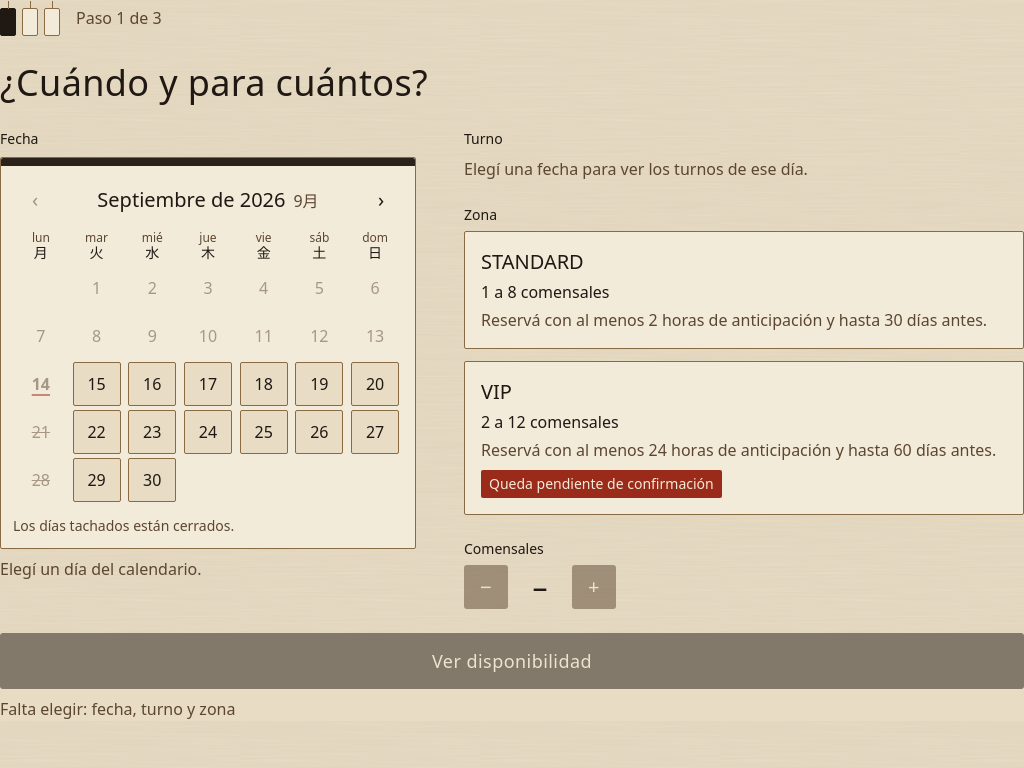
FormularioSeleccion - campos y obligatoriedad › con los cuatro campos completos habilita el botón y quita el texto
Step 1. Click the button "19" → (319,384), box [295, 362, 343, 406]
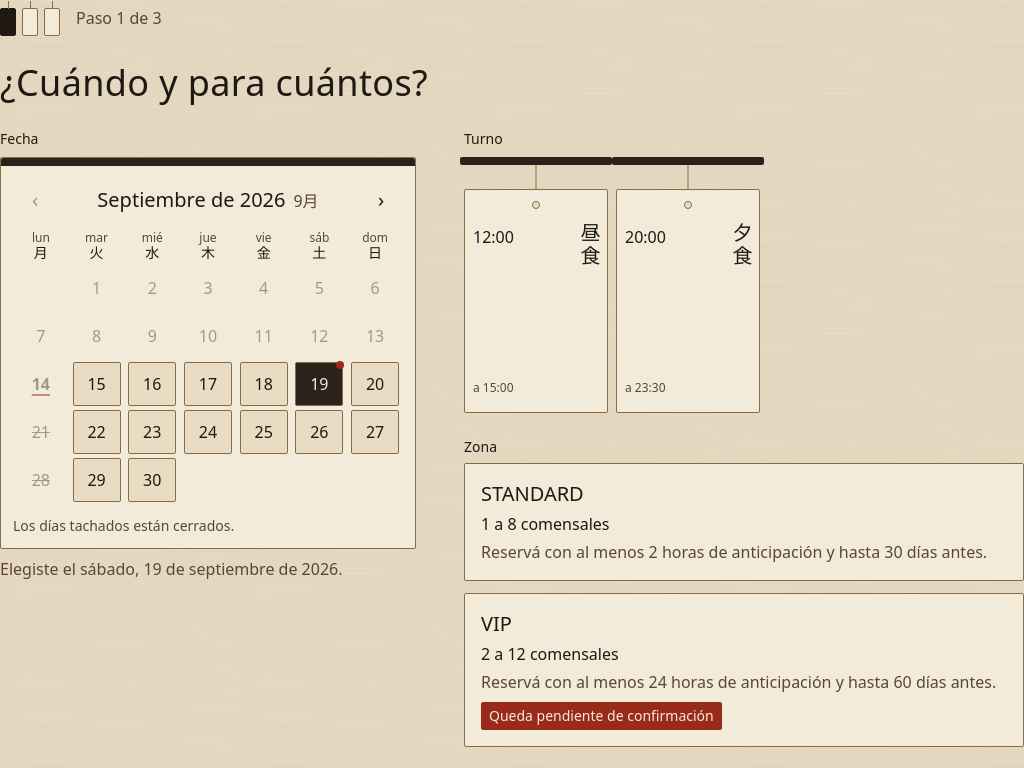
Step 2. Click the button with aria-label "20:00 a 23:30" → (688,301), box [616, 189, 760, 413]
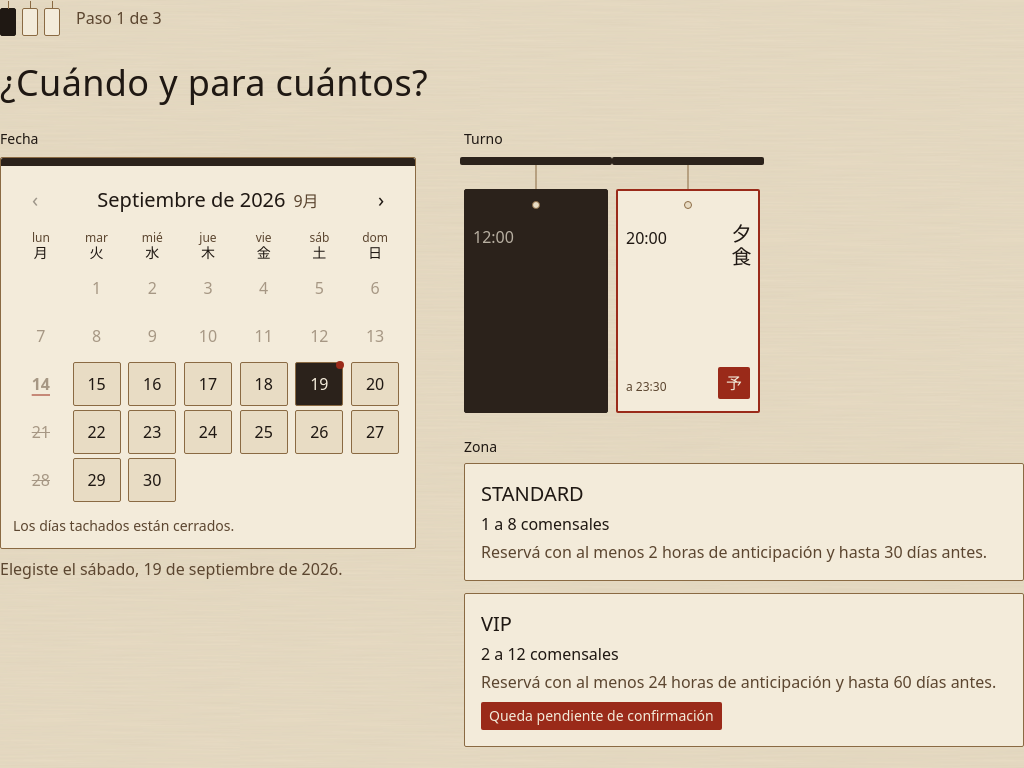
Step 3. Click the radio button labelled "STANDARD" → (532,494), box [464, 463, 1023, 581]
(page scrolled)
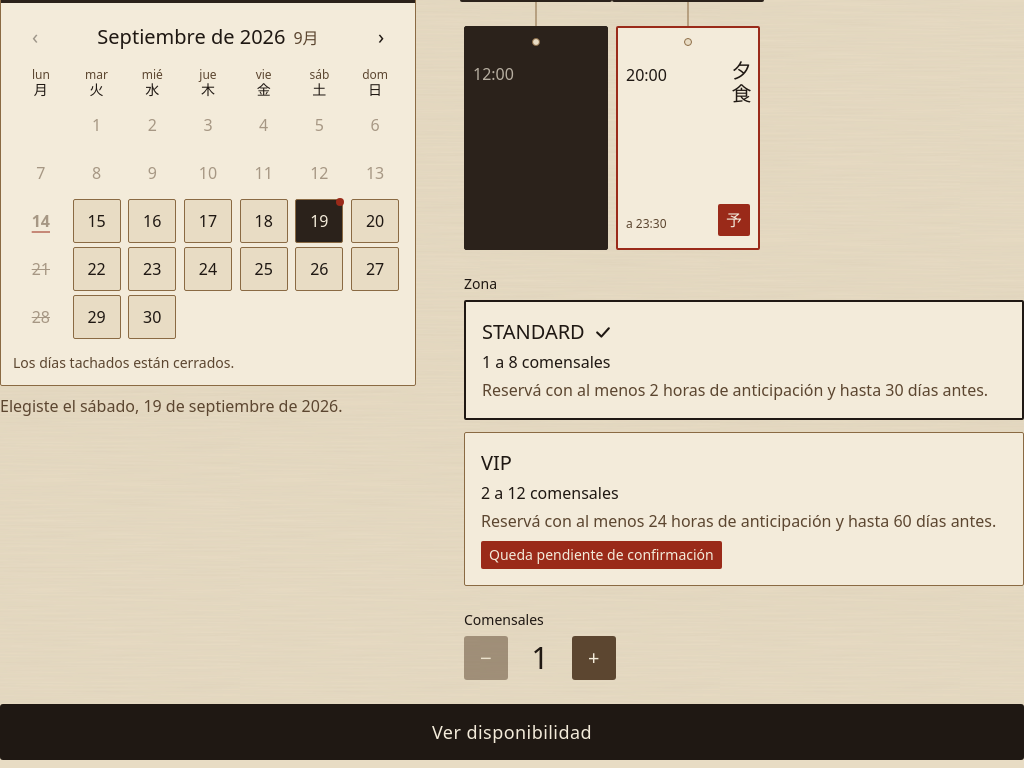
Expected: the button "Ver disponibilidad" is enabled, [0, 704, 1023, 760]
